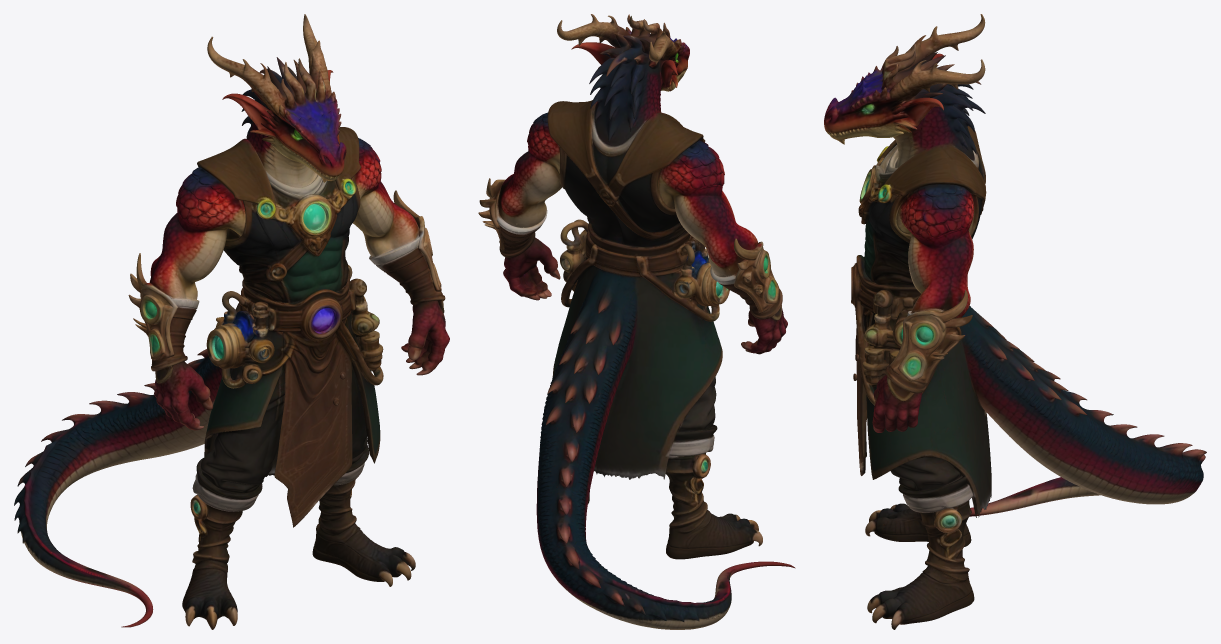
File: dragonborn_artificer_full_male_01.glb
3 renders of one model, left to right at view 1: azimuth 30°, elevation 25°; view 2: azimuth 150°, elevation 25°; view 3: azimuth 270°, elevation 25°, orthographic. The views are drawn at different scales.
Visible parts, largest first — view 1: material; view 2: material; view 3: material.
Boxes of the visible parts, x1=… form: material: x1=14, y1=14, x2=449, y2=629; material: x1=478, y1=14, x2=795, y2=629; material: x1=824, y1=14, x2=1206, y2=629.
Bounding box in the file's own units: 0.6166 × 1 × 0.6435.
Materials: 1 (1 with a texture image).
